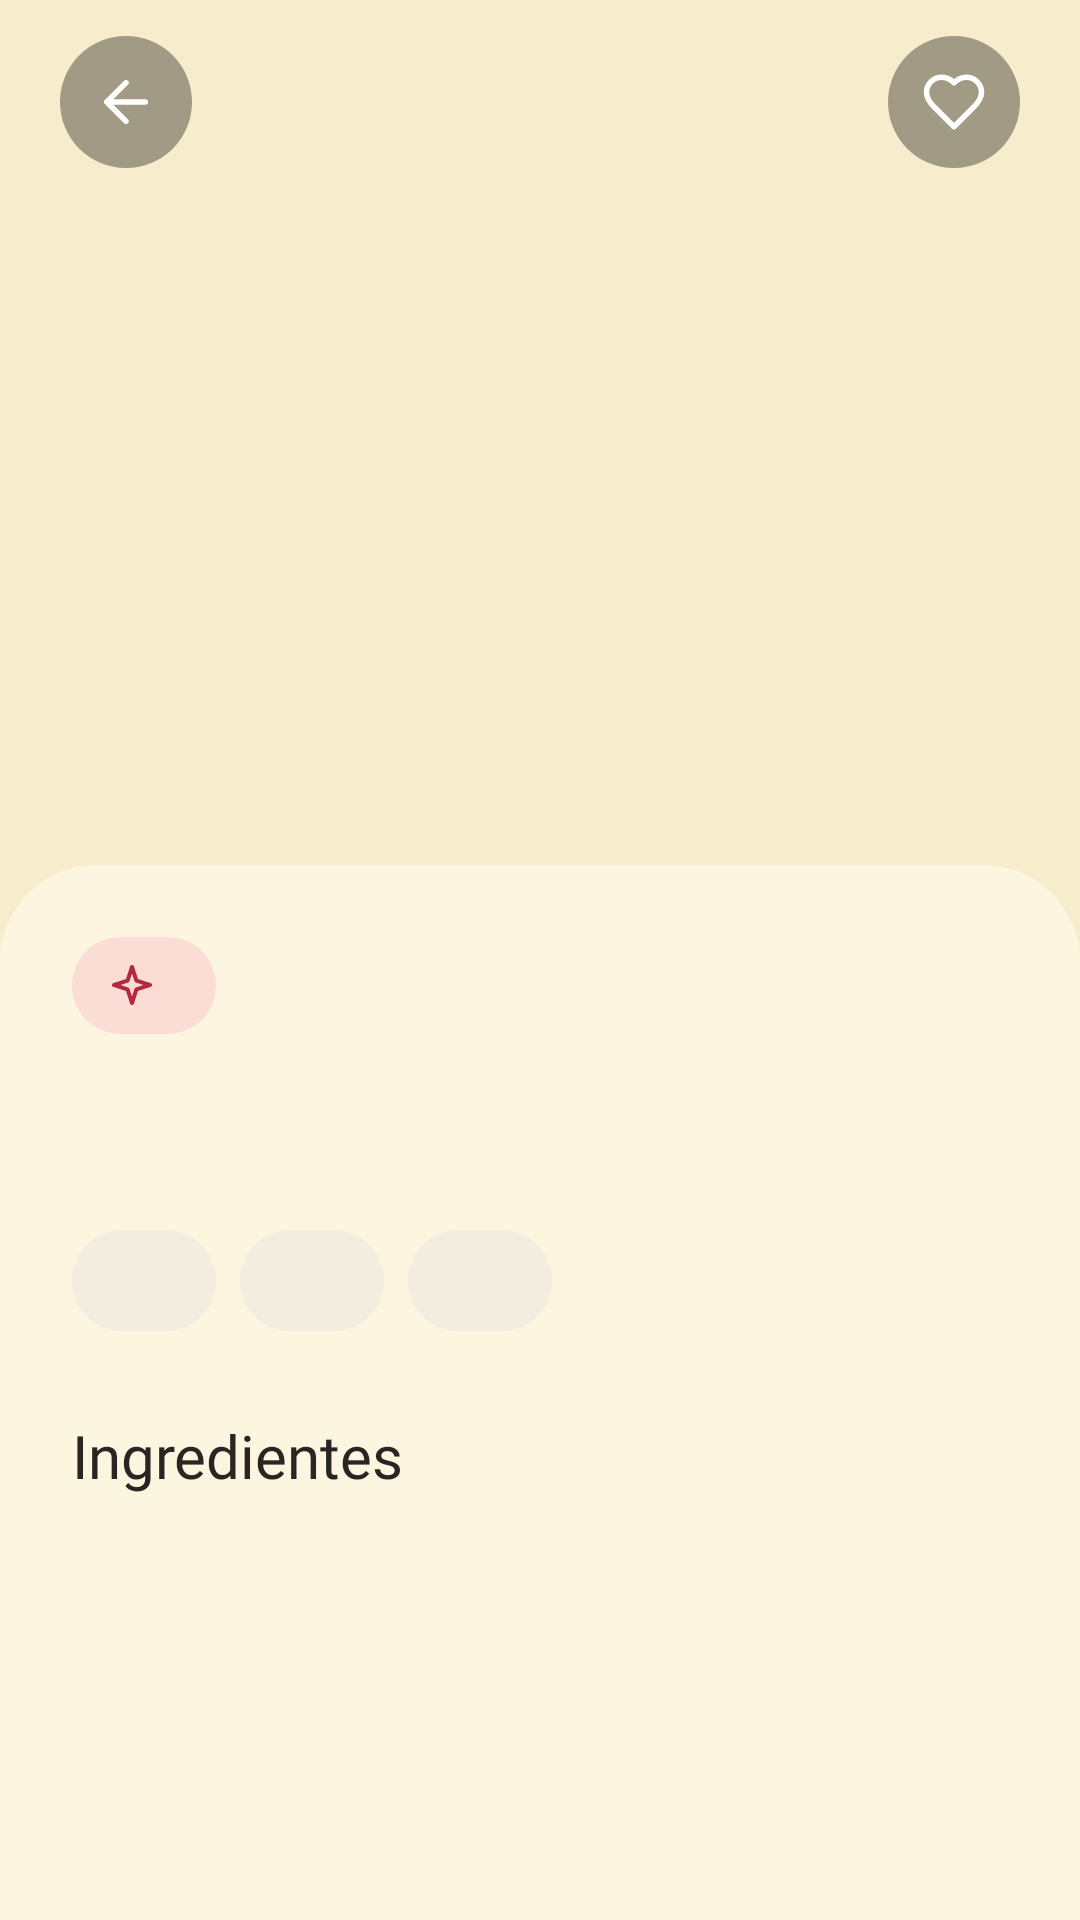

Screen size 1080*1920. Icon name, then its box in pixels as (x1, y1, x2, y2):
Marcar receta como favorita: (888, 36, 1020, 168)
sparkle: (112, 965, 152, 1005)
Volver: (60, 36, 192, 168)
